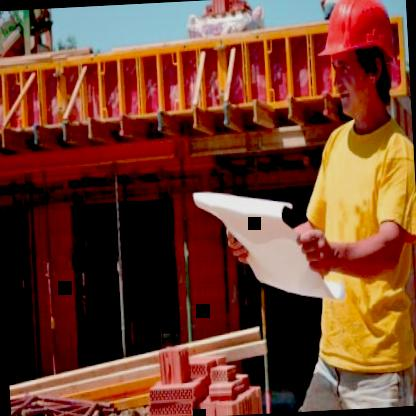helmet: (314, 0, 409, 132)
